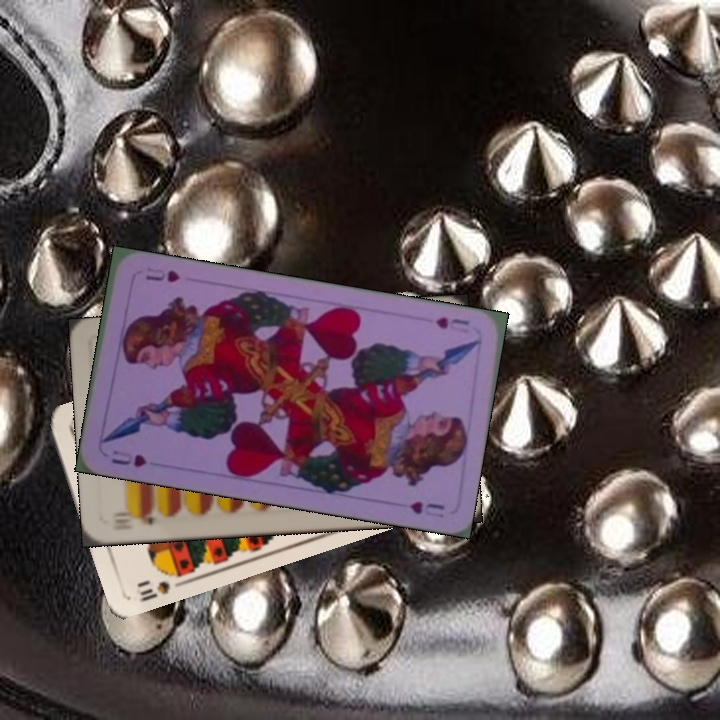E10: (112, 507, 156, 528)
HU: (107, 446, 149, 470), (431, 313, 472, 332)
S10: (136, 567, 187, 604)
